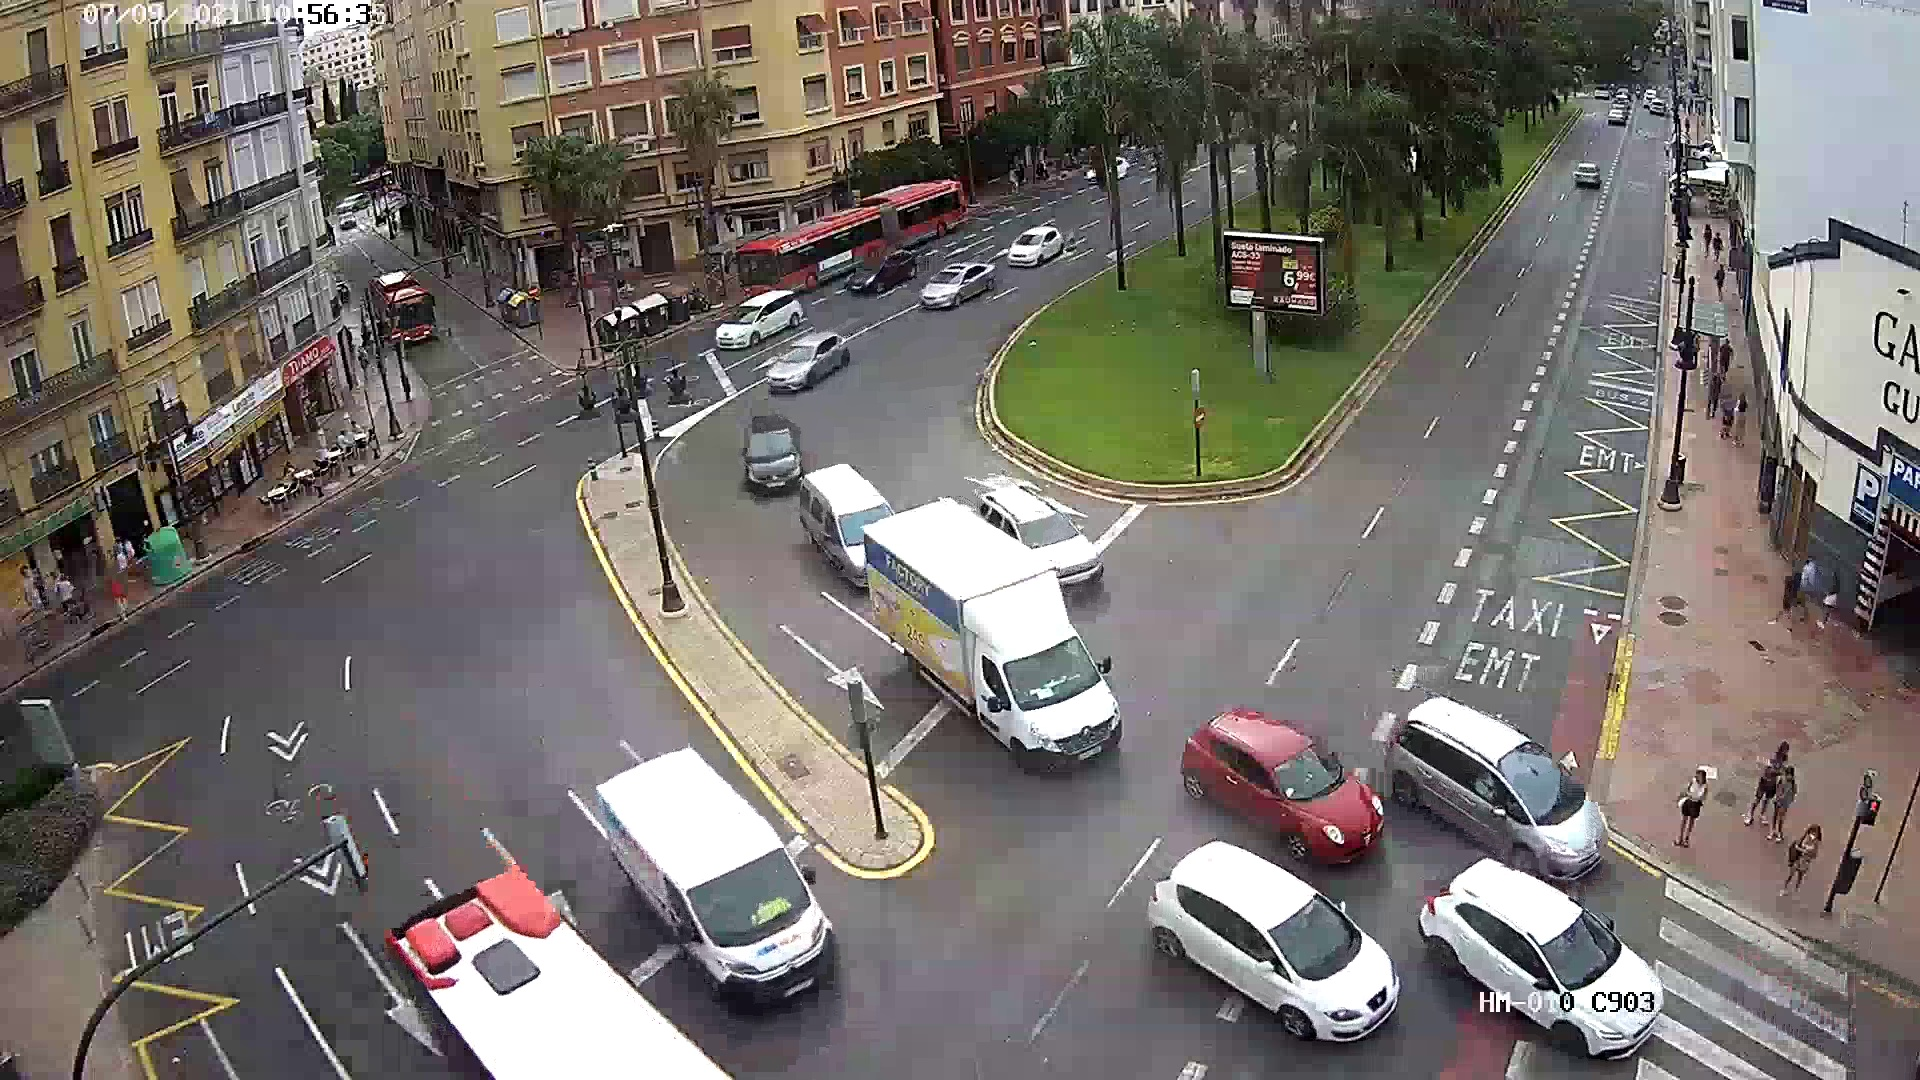Cars: (1141, 829, 1389, 1052), (1396, 860, 1672, 1043), (1374, 657, 1607, 870), (1174, 699, 1389, 860), (732, 404, 800, 498), (698, 294, 808, 344), (742, 343, 841, 389), (920, 256, 996, 315), (996, 227, 1072, 272)
